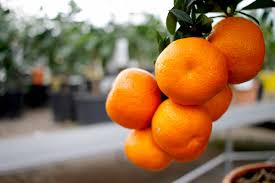orange: (153, 32, 230, 101), (211, 10, 268, 83), (153, 97, 215, 157), (101, 66, 161, 127), (118, 123, 170, 170)
